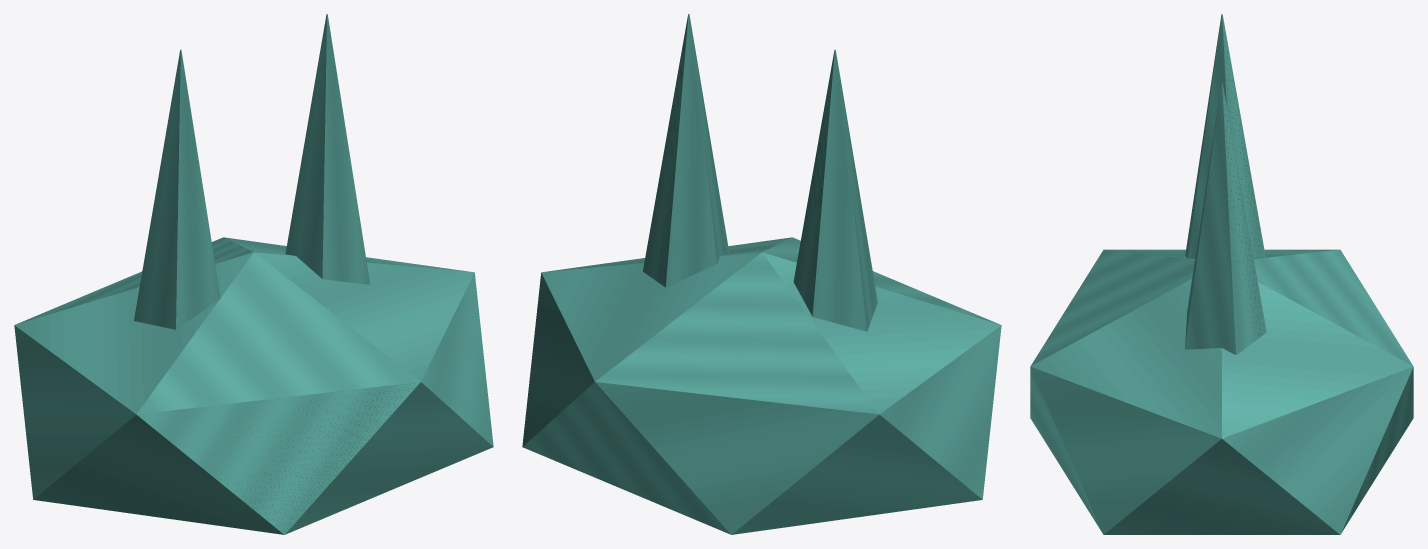
Rendered from showdown.glb.
3 renders of one model, left to right at view 1: azimuth 30°, elevation 25°; view 2: azimuth 150°, elevation 25°; view 3: azimuth 270°, elevation 25°, orthographic. The views are drawn at different scales.
Visible parts, largest first — view 1: gear_showdown; view 2: gear_showdown; view 3: gear_showdown.
Part boxes in pixels (x1,y1,x2,y2): gear_showdown: (14,14,493,534); gear_showdown: (522,14,1001,534); gear_showdown: (1030,14,1413,534).
Bounding box in the file's own units: 0.483 × 0.51 × 0.3743.
1 material, 1 textured.
